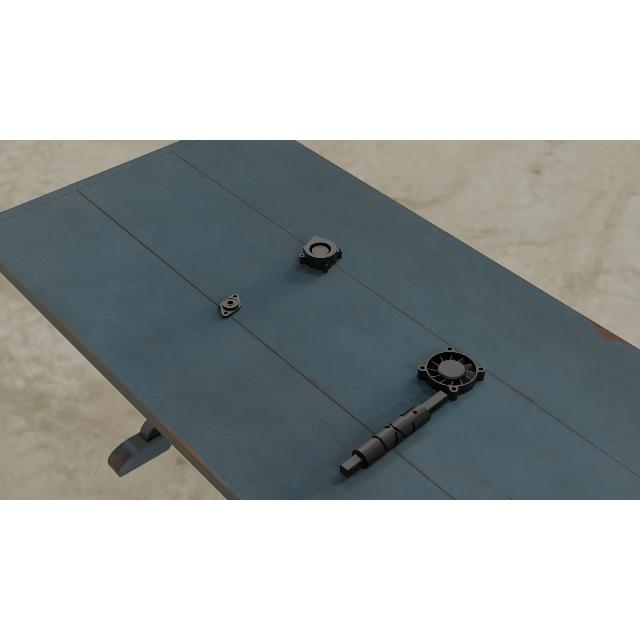Pieza1: (336, 383, 452, 485)
Pieza2: (214, 290, 246, 320)
Pieza3: (298, 236, 344, 274)
Pieza4: (414, 344, 488, 404)
